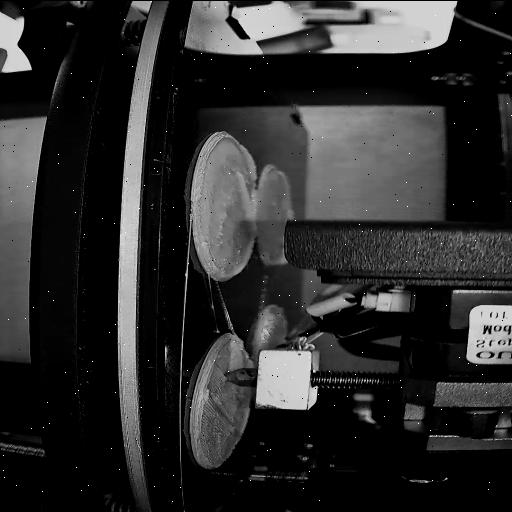over_extrusion: (234, 142, 258, 236), (210, 238, 256, 278)
